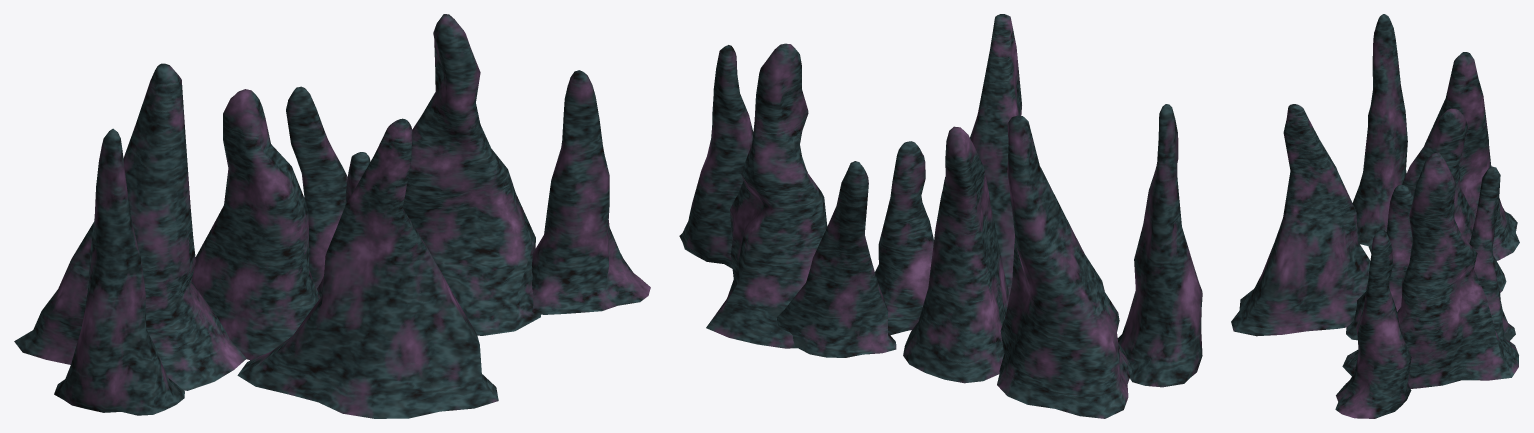
The model's file is CA_163_stalagmites.glb.
3 views of the same model, side by side, from view 1: azimuth 30°, elevation 25°; view 2: azimuth 150°, elevation 25°; view 3: azimuth 270°, elevation 25° (orthographic). The views are drawn at different scales.
Parts seen in each view (by area): view 1: stalagmite_1, stalagmite_3, stalagmite_2, stalagmite_5, stalagmite_6, stalagmite_4, stalagmite_8, stalagmite_7; view 2: stalagmite_2, stalagmite_3, stalagmite_5, stalagmite_6, stalagmite_8, stalagmite_4, stalagmite_7, stalagmite_1; view 3: stalagmite_1, stalagmite_3, stalagmite_4, stalagmite_6, stalagmite_2, stalagmite_5, stalagmite_8, stalagmite_7.
Boxes of the visible parts, x1,y1,x2,y2 form: stalagmite_1: (237,118,498,418); stalagmite_3: (403,14,540,335); stalagmite_2: (14,63,246,390); stalagmite_5: (192,89,320,360); stalagmite_6: (54,128,184,415); stalagmite_4: (531,70,650,314); stalagmite_8: (286,86,347,288); stalagmite_7: (317,152,370,297); stalagmite_2: (997,115,1131,418); stalagmite_3: (706,43,827,348); stalagmite_5: (903,126,1009,383); stalagmite_6: (1117,104,1202,387); stalagmite_8: (777,161,896,357); stalagmite_4: (679,45,753,268); stalagmite_7: (875,141,933,335); stalagmite_1: (970,14,1021,294); stalagmite_1: (1231,104,1370,336); stalagmite_3: (1342,152,1518,388); stalagmite_4: (1335,229,1411,418); stalagmite_6: (1352,14,1407,246); stalagmite_2: (1368,52,1519,260); stalagmite_5: (1402,108,1506,292); stalagmite_8: (1469,166,1515,341); stalagmite_7: (1346,185,1413,340).
Bounding box in the file's own units: 2.43 × 1.15 × 1.41.
Materials: 2 (1 with a texture image).
